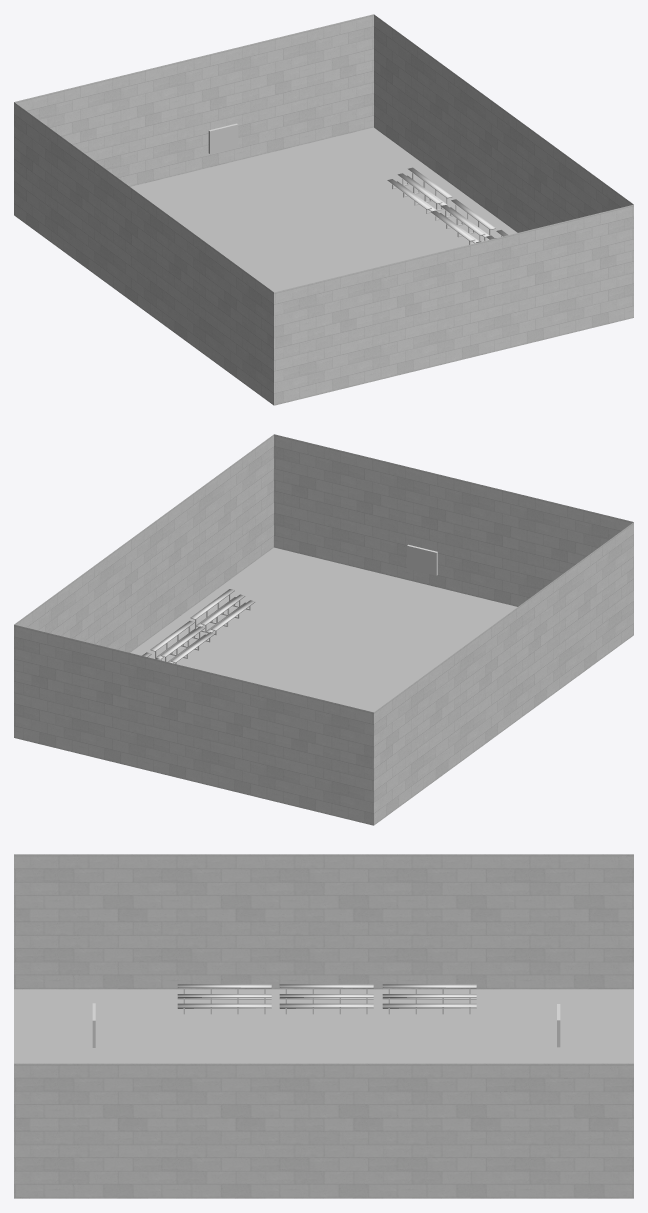
Rendered from dodgeballPlayingFieldv3.fbx.
3 views of the same model, one above another, from view 1: azimuth 30°, elevation 25°; view 2: azimuth 150°, elevation 25°; view 3: azimuth 270°, elevation 25° (orthographic). The views are drawn at different scales.
Parts seen in each view (by area): view 1: Plane.002, Plane.003, Plane, Plane.004, Plane.001, Cube.001, Cube.002, Cube.008; view 2: Plane.003, Plane.002, Plane, Plane.004, Plane.001, Cube.006, Cube.002, Cube.005; view 3: Plane.001, Plane.004, Plane, Cube.003, Cube.007, Cube.004.
Part boxes in pixels (bbox=[...]): Plane.002: bbox=[274, 204, 633, 405]; Plane.003: bbox=[14, 14, 373, 186]; Plane: bbox=[130, 127, 517, 292]; Plane.004: bbox=[14, 102, 273, 405]; Plane.001: bbox=[374, 14, 633, 232]; Cube.001: bbox=[387, 167, 452, 213]; Cube.002: bbox=[430, 199, 495, 244]; Cube.008: bbox=[208, 123, 238, 153]; Plane.003: bbox=[14, 624, 373, 825]; Plane.002: bbox=[274, 434, 633, 606]; Plane: bbox=[130, 547, 517, 712]; Plane.004: bbox=[374, 522, 633, 825]; Plane.001: bbox=[14, 434, 273, 652]; Cube.006: bbox=[190, 589, 255, 635]; Cube.002: bbox=[150, 621, 215, 664]; Cube.005: bbox=[407, 544, 437, 575]; Plane.001: bbox=[14, 1063, 633, 1198]; Plane.004: bbox=[14, 854, 633, 989]; Plane: bbox=[14, 989, 633, 1063]; Cube.003: bbox=[382, 984, 476, 1014]; Cube.007: bbox=[177, 984, 271, 1014]; Cube.004: bbox=[279, 984, 373, 1014].
Size of the model in its own units: 7636 by 2297 by 9559.
